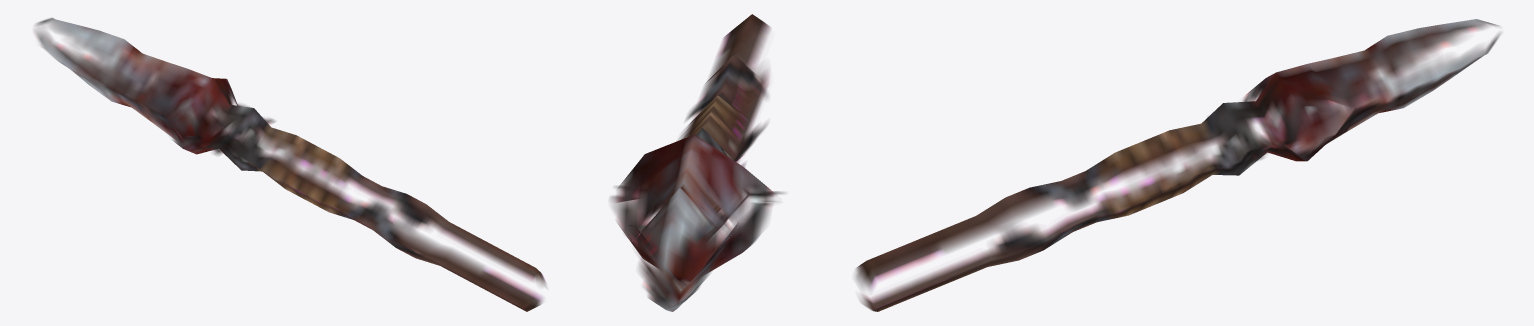
Rendered from drop_rod.glb.
3 views of the same model, side by side, from view 1: azimuth 30°, elevation 25°; view 2: azimuth 150°, elevation 25°; view 3: azimuth 270°, elevation 25° (orthographic). The views are drawn at different scales.
Visible parts, largest first — view 1: drop_rod; view 2: drop_rod; view 3: drop_rod.
Boxes of the visible parts, box(x1,y1,x2,y2) form: drop_rod: box(34, 18, 546, 311); drop_rod: box(610, 14, 784, 311); drop_rod: box(855, 19, 1500, 311).
Bounding box in the file's own units: 0.2537 × 0.1346 × 0.4723.
Materials: 1 (1 with a texture image).
